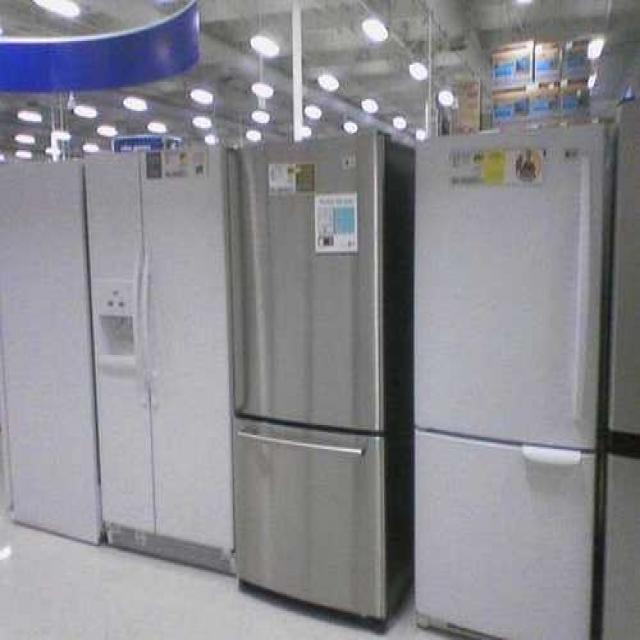refrigerator: (414, 135, 603, 640), (236, 129, 389, 622), (83, 150, 233, 568)
